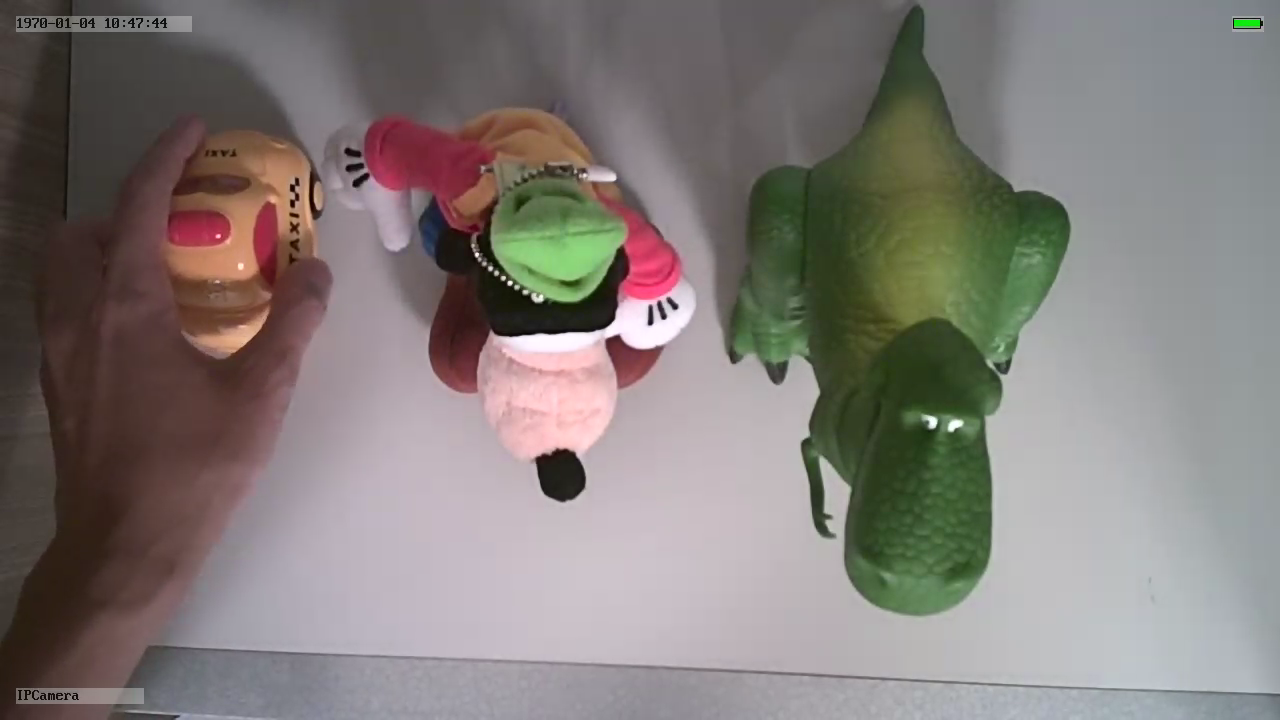goofy: (320, 104, 701, 507)
